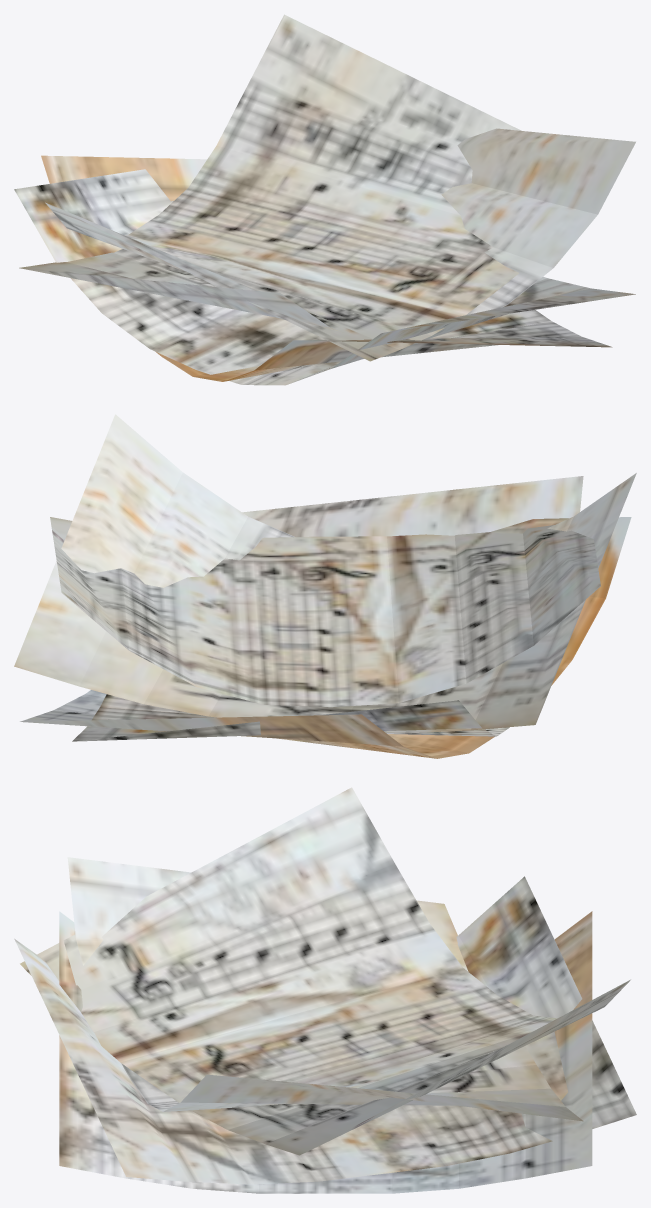
File: FOREST_DECOR_MUSICSHEET_003.obj
The picture shows the model from 3 angles, top to bottom: view 1: azimuth 30°, elevation 25°; view 2: azimuth 150°, elevation 25°; view 3: azimuth 270°, elevation 25°; orthographic projection. The views are drawn at different scales.
Visible parts, largest first — view 1: FOREST_DECOR_MUSICSHEET_003; view 2: FOREST_DECOR_MUSICSHEET_003; view 3: FOREST_DECOR_MUSICSHEET_003.
Part boxes in pixels (x1=…): FOREST_DECOR_MUSICSHEET_003: x1=14, y1=14, x2=635, y2=385; FOREST_DECOR_MUSICSHEET_003: x1=14, y1=414, x2=636, y2=758; FOREST_DECOR_MUSICSHEET_003: x1=14, y1=787, x2=636, y2=1193.
Bounding box in the file's own units: 0.6094 × 0.1864 × 0.5763.
